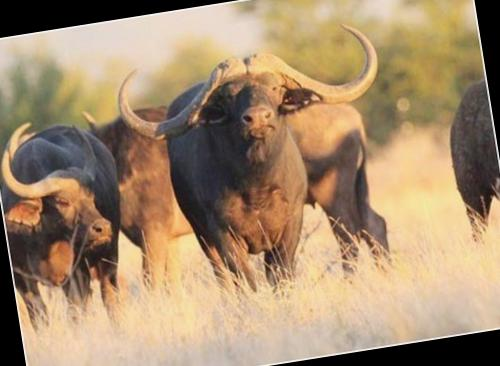Buffalo: (0, 0, 500, 362)
